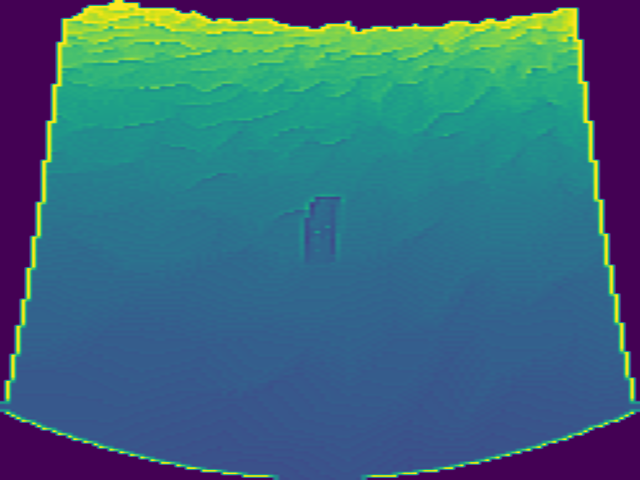car_0198: (297, 194, 342, 260)
